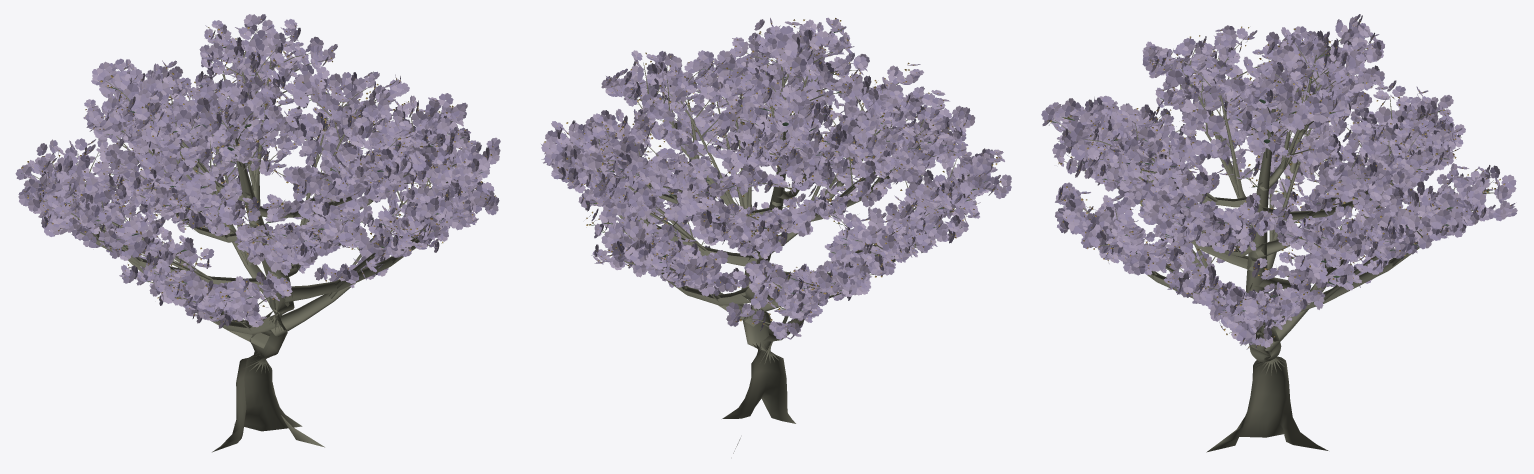
The picture shows the model from 3 angles, left to right: view 1: azimuth 30°, elevation 25°; view 2: azimuth 150°, elevation 25°; view 3: azimuth 270°, elevation 25°; orthographic projection. The views are drawn at different scales.
Visible parts, largest first — view 1: leaves, branches; view 2: leaves, branches; view 3: leaves, branches.
Part boxes in pixels (x1,y1,x2,y2): leaves: (15, 14, 500, 328); branches: (32, 28, 476, 452); leaves: (541, 17, 1011, 339); branches: (564, 31, 995, 453); leaves: (1041, 14, 1517, 349); branches: (1053, 36, 1494, 452).
Size of the model in its own units: 9.78 by 8 by 9.07.
